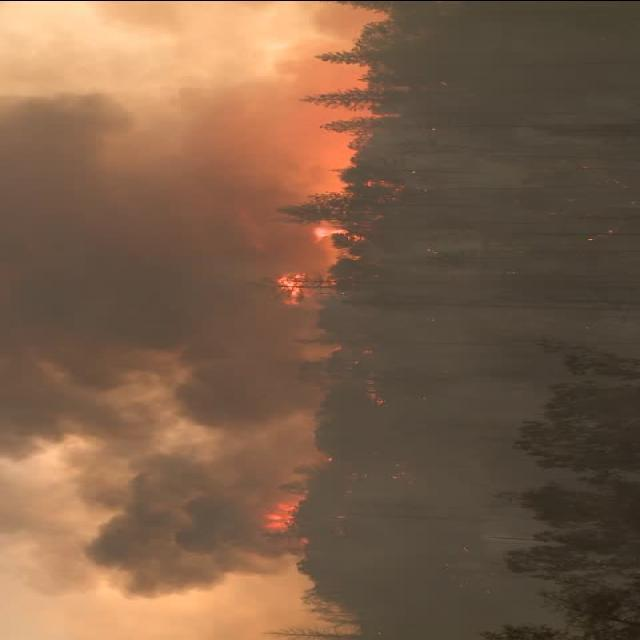Fire: (270, 210, 352, 304), (262, 491, 314, 542)
